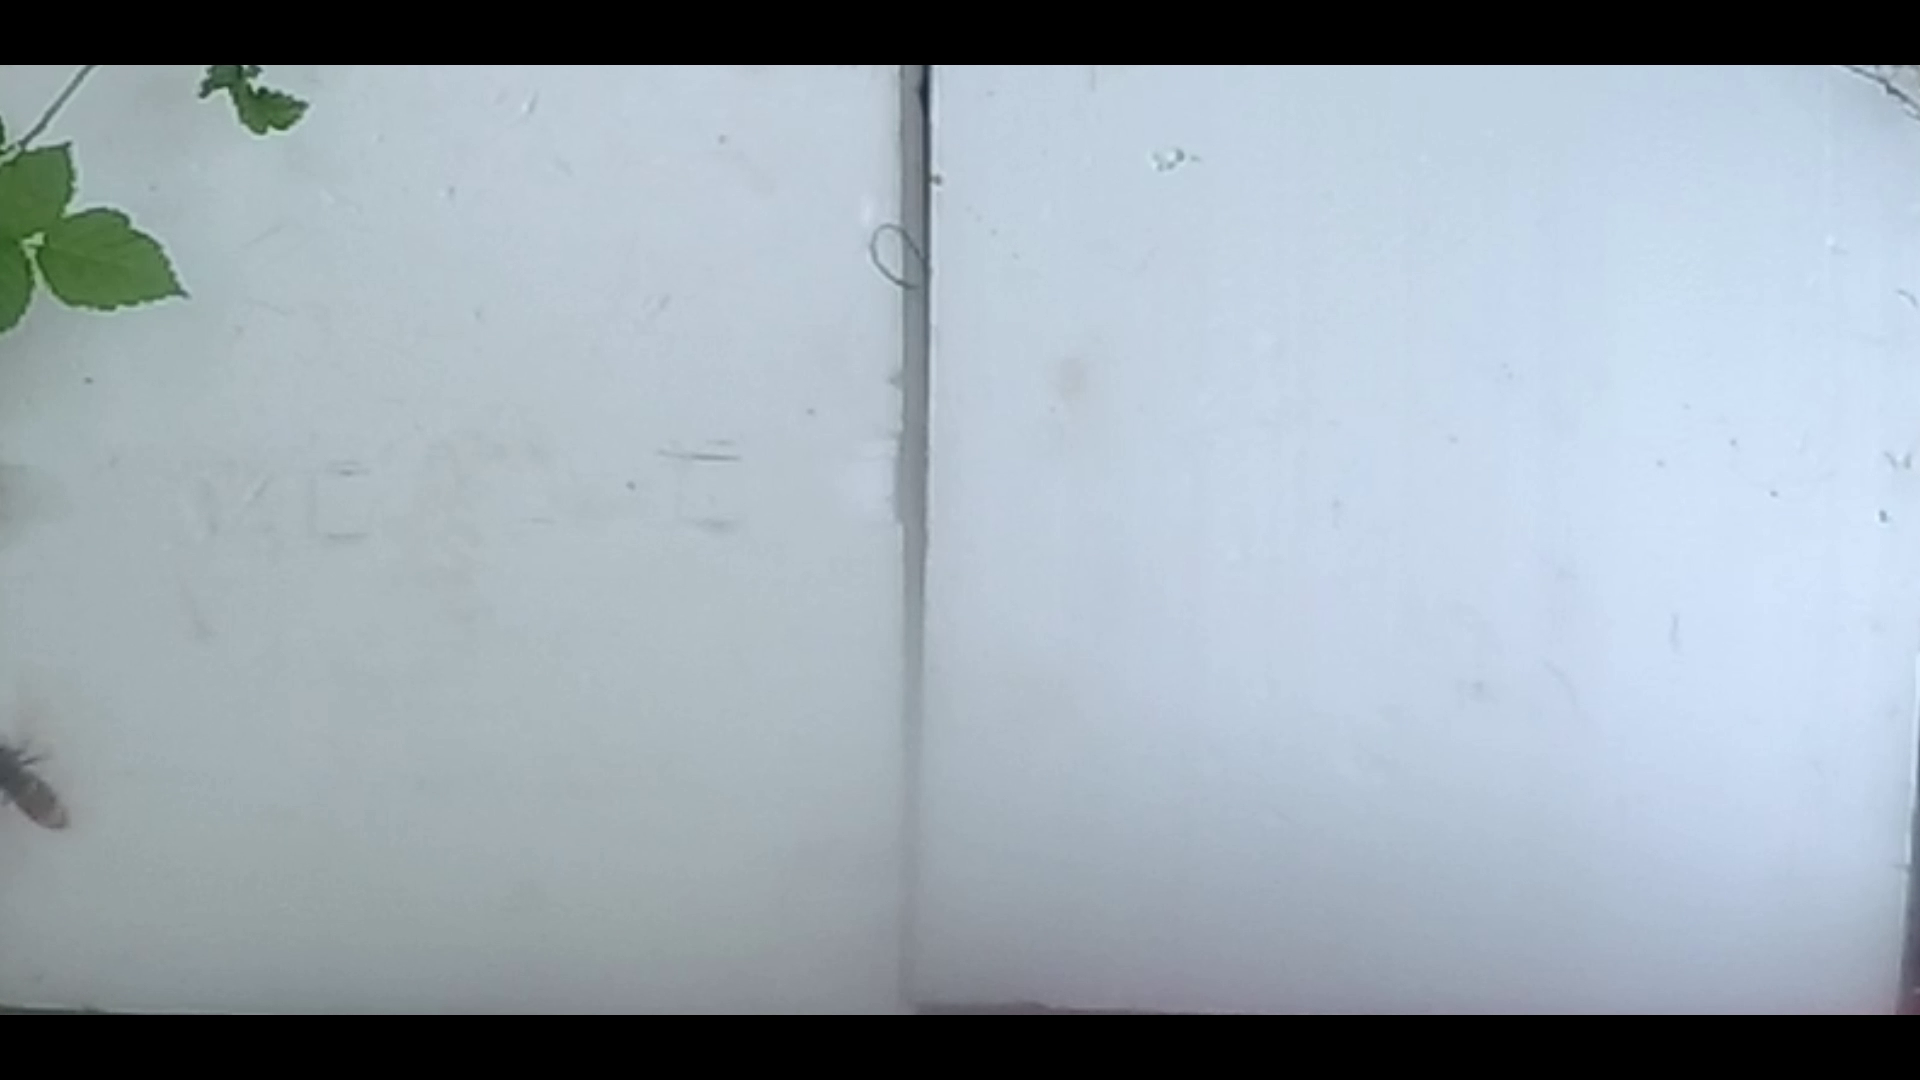Asian_hornets: (0, 713, 86, 851)
